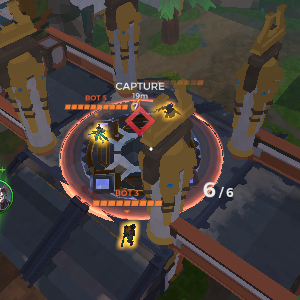model: (119, 220, 138, 248), (90, 122, 109, 145), (154, 101, 178, 117)
